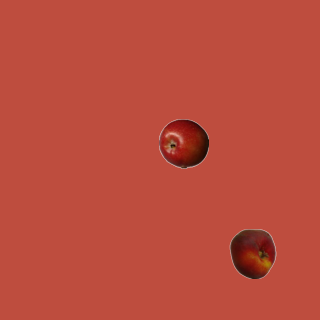Apple Braeburn: (158, 118, 208, 168)
Nectarine Flat: (227, 228, 277, 278)
